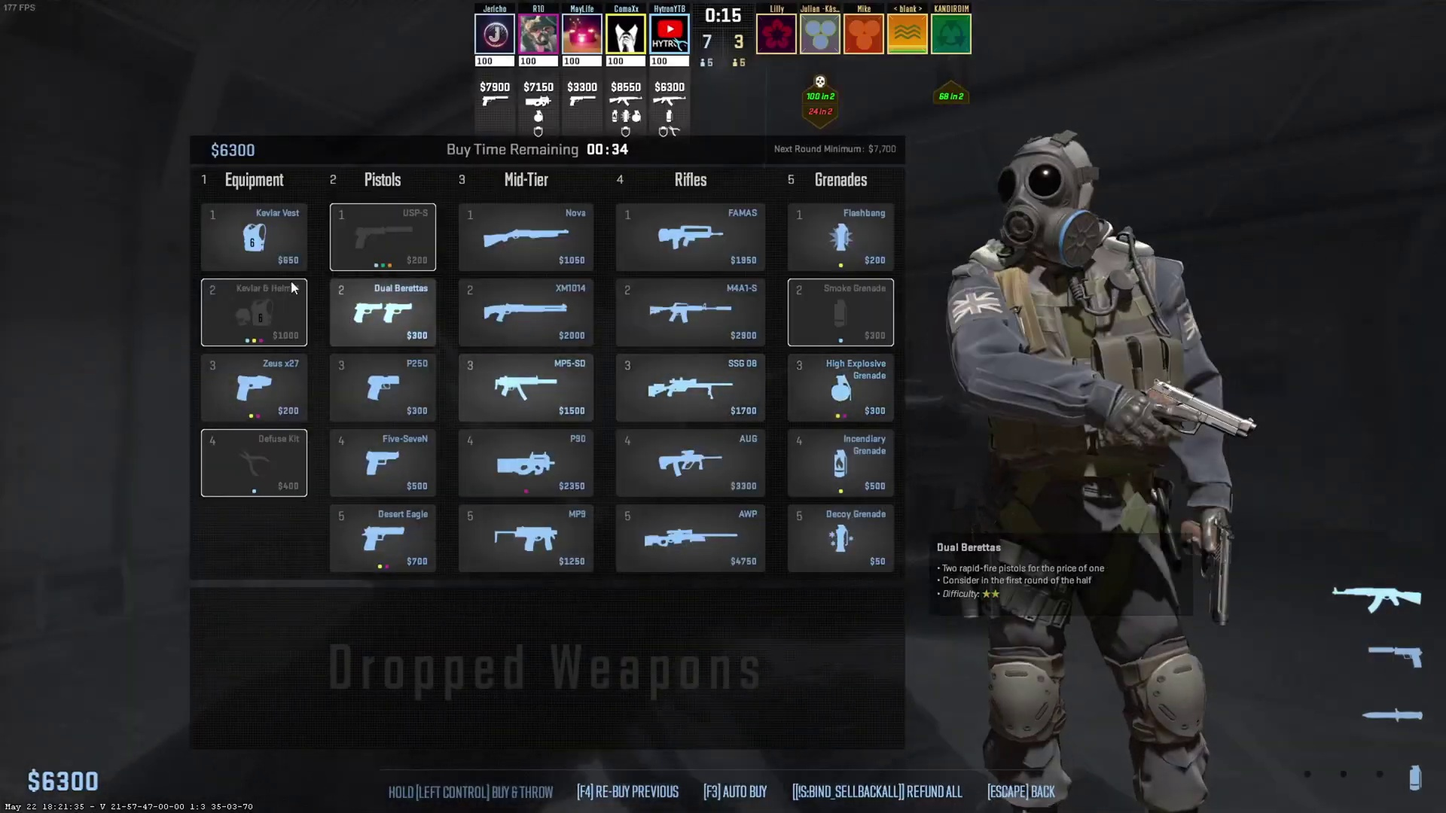CT: (973, 135, 1217, 810)
